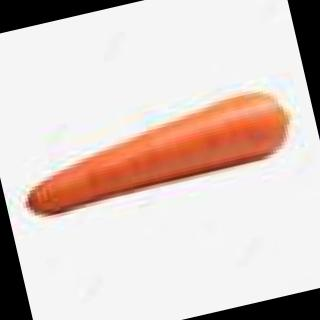Wortel: (4, 69, 320, 260)
